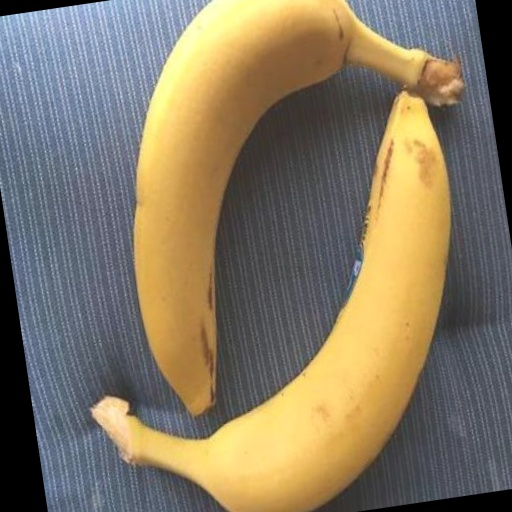fruit: (92, 93, 450, 512)
